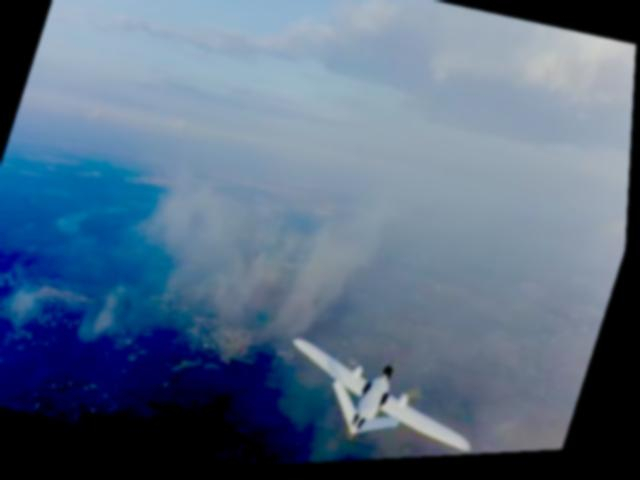uav: (267, 326, 500, 468)
